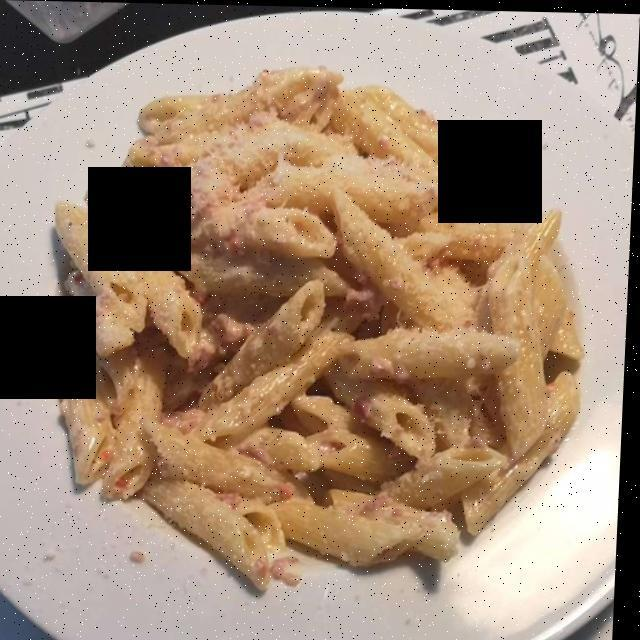ham: (136, 171, 412, 521)
pasta: (60, 84, 570, 576)
